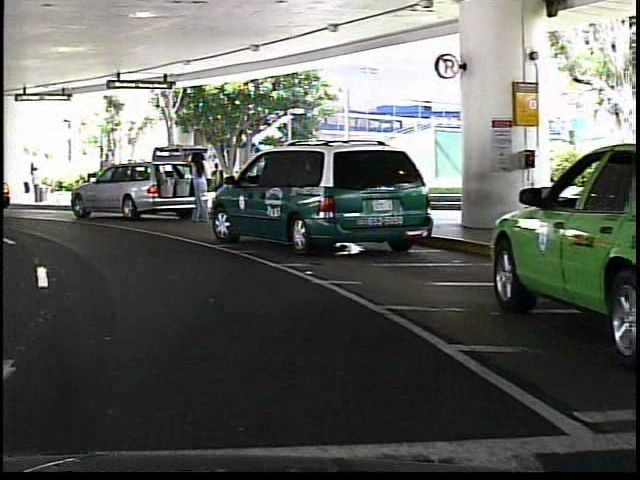person: (183, 155, 225, 213), (187, 148, 206, 227), (92, 149, 115, 202)
